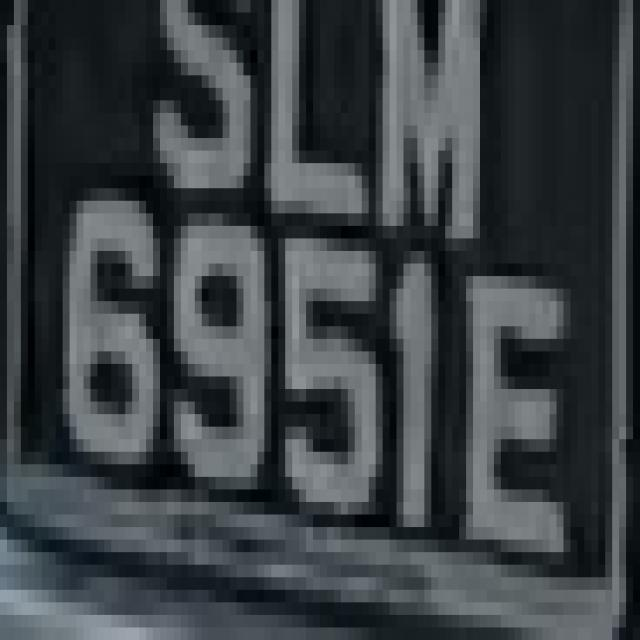1: (383, 251, 452, 565)
5: (258, 201, 382, 527)
6: (56, 163, 167, 502)
9: (160, 201, 285, 527)
E: (446, 238, 584, 578)
L: (236, 25, 368, 239)
M: (369, 38, 501, 251)
S: (133, 25, 264, 213)
